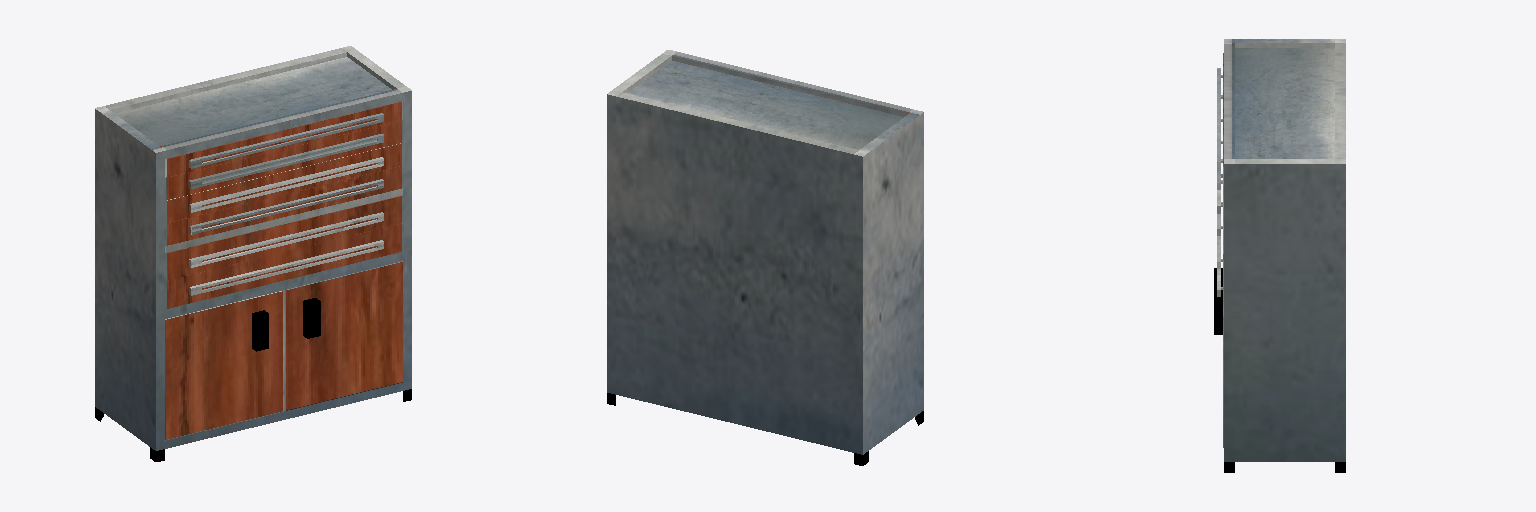
3 renders of one model, left to right at view 1: azimuth 30°, elevation 25°; view 2: azimuth 150°, elevation 25°; view 3: azimuth 270°, elevation 25°, orthographic.
Visible parts, largest first — view 1: library_cabinet.obj; view 2: library_cabinet.obj; view 3: library_cabinet.obj.
Boxes of the visible parts, x1=… form: library_cabinet.obj: x1=95, y1=46, x2=411, y2=461; library_cabinet.obj: x1=607, y1=50, x2=923, y2=465; library_cabinet.obj: x1=1214, y1=39, x2=1345, y2=472.
Size of the model in its own units: 10.57 by 12.2 by 4.74.
Materials: 1 (1 with a texture image).